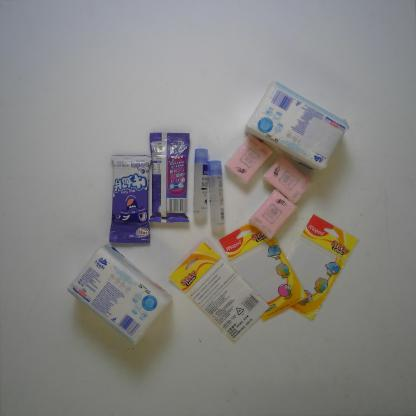Candy: (107, 152, 153, 242), (149, 131, 190, 225)
Stationery: (167, 241, 270, 343), (218, 219, 309, 322), (274, 214, 360, 322), (206, 152, 228, 228), (194, 148, 210, 219)
Tissue: (67, 242, 173, 346), (244, 81, 351, 170), (224, 133, 274, 186), (248, 189, 298, 241), (261, 155, 314, 203)
